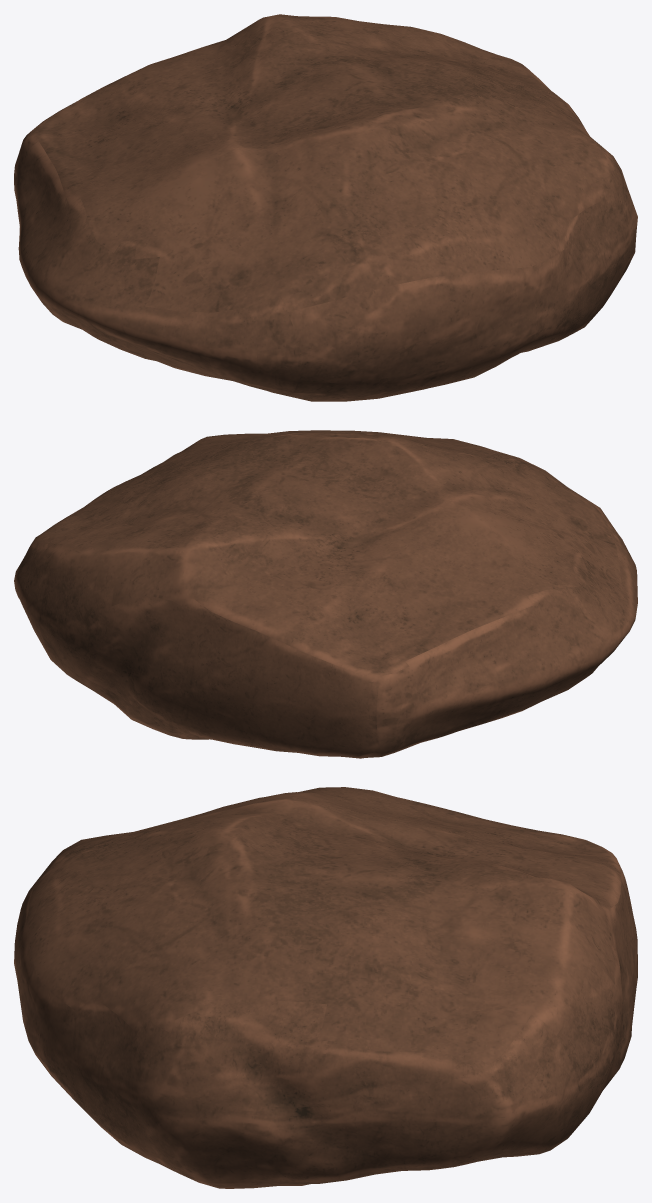
File: SmallRock_02.fbx
3 views of the same model, one above another, from view 1: azimuth 30°, elevation 25°; view 2: azimuth 150°, elevation 25°; view 3: azimuth 270°, elevation 25° (orthographic). The views are drawn at different scales.
Visible parts, largest first — view 1: small_rock_04_lopoly:Group65025; view 2: small_rock_04_lopoly:Group65025; view 3: small_rock_04_lopoly:Group65025.
Boxes of the visible parts, x1,y1,x2,y2 form: small_rock_04_lopoly:Group65025: [14, 14, 637, 401]; small_rock_04_lopoly:Group65025: [14, 430, 637, 758]; small_rock_04_lopoly:Group65025: [14, 787, 637, 1188].
Bounding box in the file's own units: 6.68 × 2.97 × 5.92.
